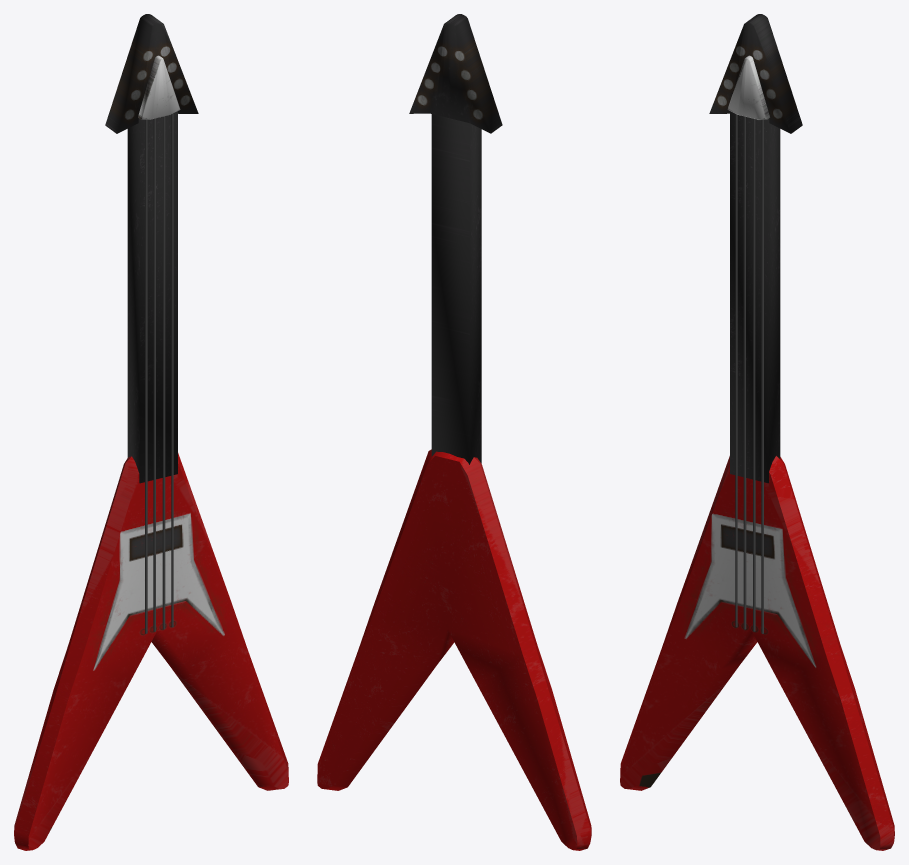
3 views of the same model, side by side, from view 1: azimuth 30°, elevation 25°; view 2: azimuth 150°, elevation 25°; view 3: azimuth 330°, elevation 25° (orthographic).
Parts seen in each view (by area): view 1: Guitar; view 2: Guitar; view 3: Guitar.
Boxes of the visible parts, x1,y1,x2,y2 form: Guitar: (14,14,288,850); Guitar: (317,14,591,850); Guitar: (620,14,894,850).
Size of the model in its own units: 24.83 by 69.55 by 2.72.
2 materials, 1 textured.
